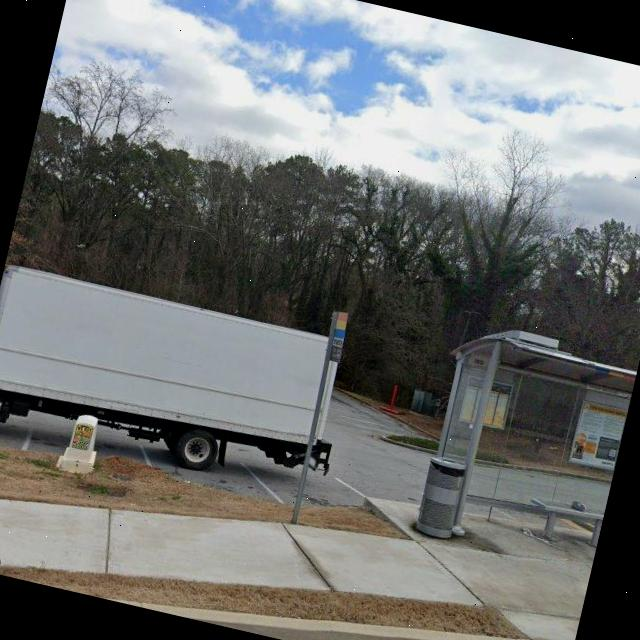seating: (520, 489, 605, 552)
shelter: (408, 317, 639, 568)
trash_can: (412, 453, 468, 537)
